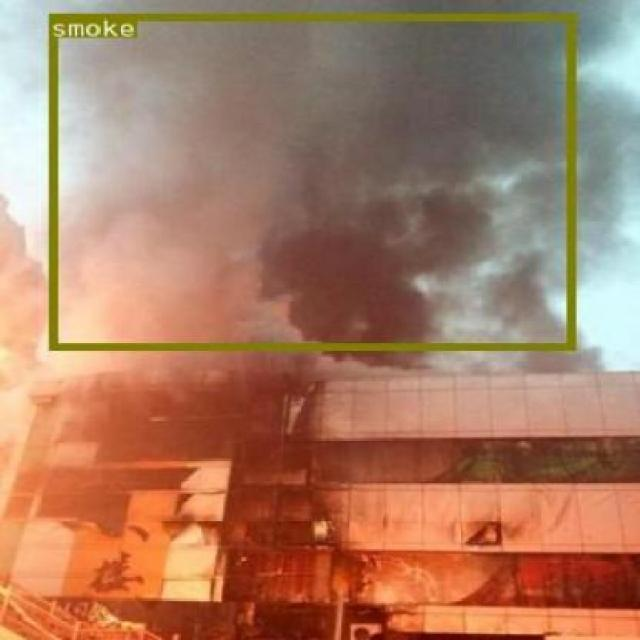Smoke: (48, 12, 574, 350)
